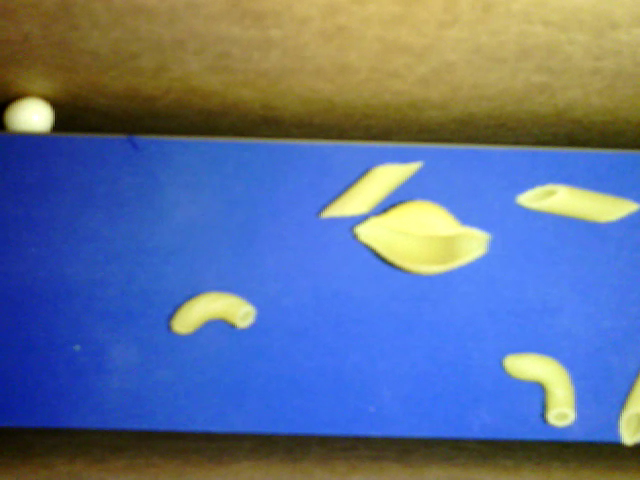elbow: (502, 352, 575, 428), (168, 292, 257, 334)
penne: (319, 161, 423, 219), (514, 181, 638, 222), (617, 370, 639, 447)
shell: (352, 199, 493, 275)
